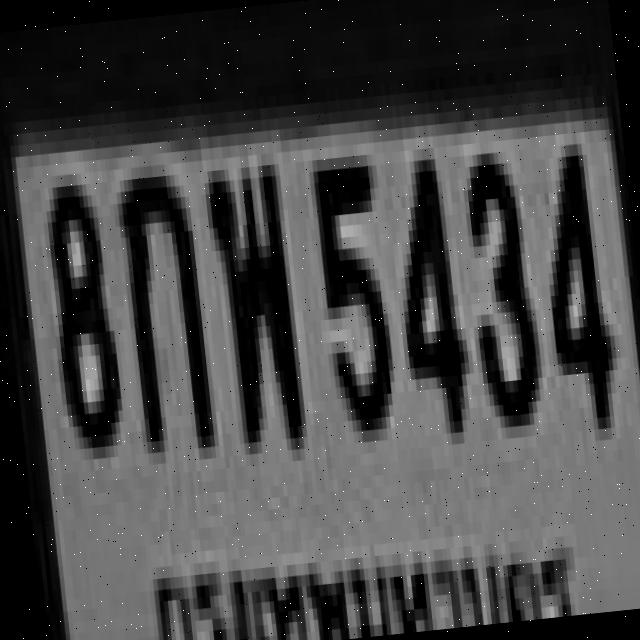10GorGai: (113, 162, 209, 442)
3: (454, 139, 537, 418)
39PhorPan: (202, 153, 302, 444)
4: (530, 132, 614, 422), (383, 147, 466, 426)
5: (306, 143, 395, 433)
8: (38, 172, 120, 438)
